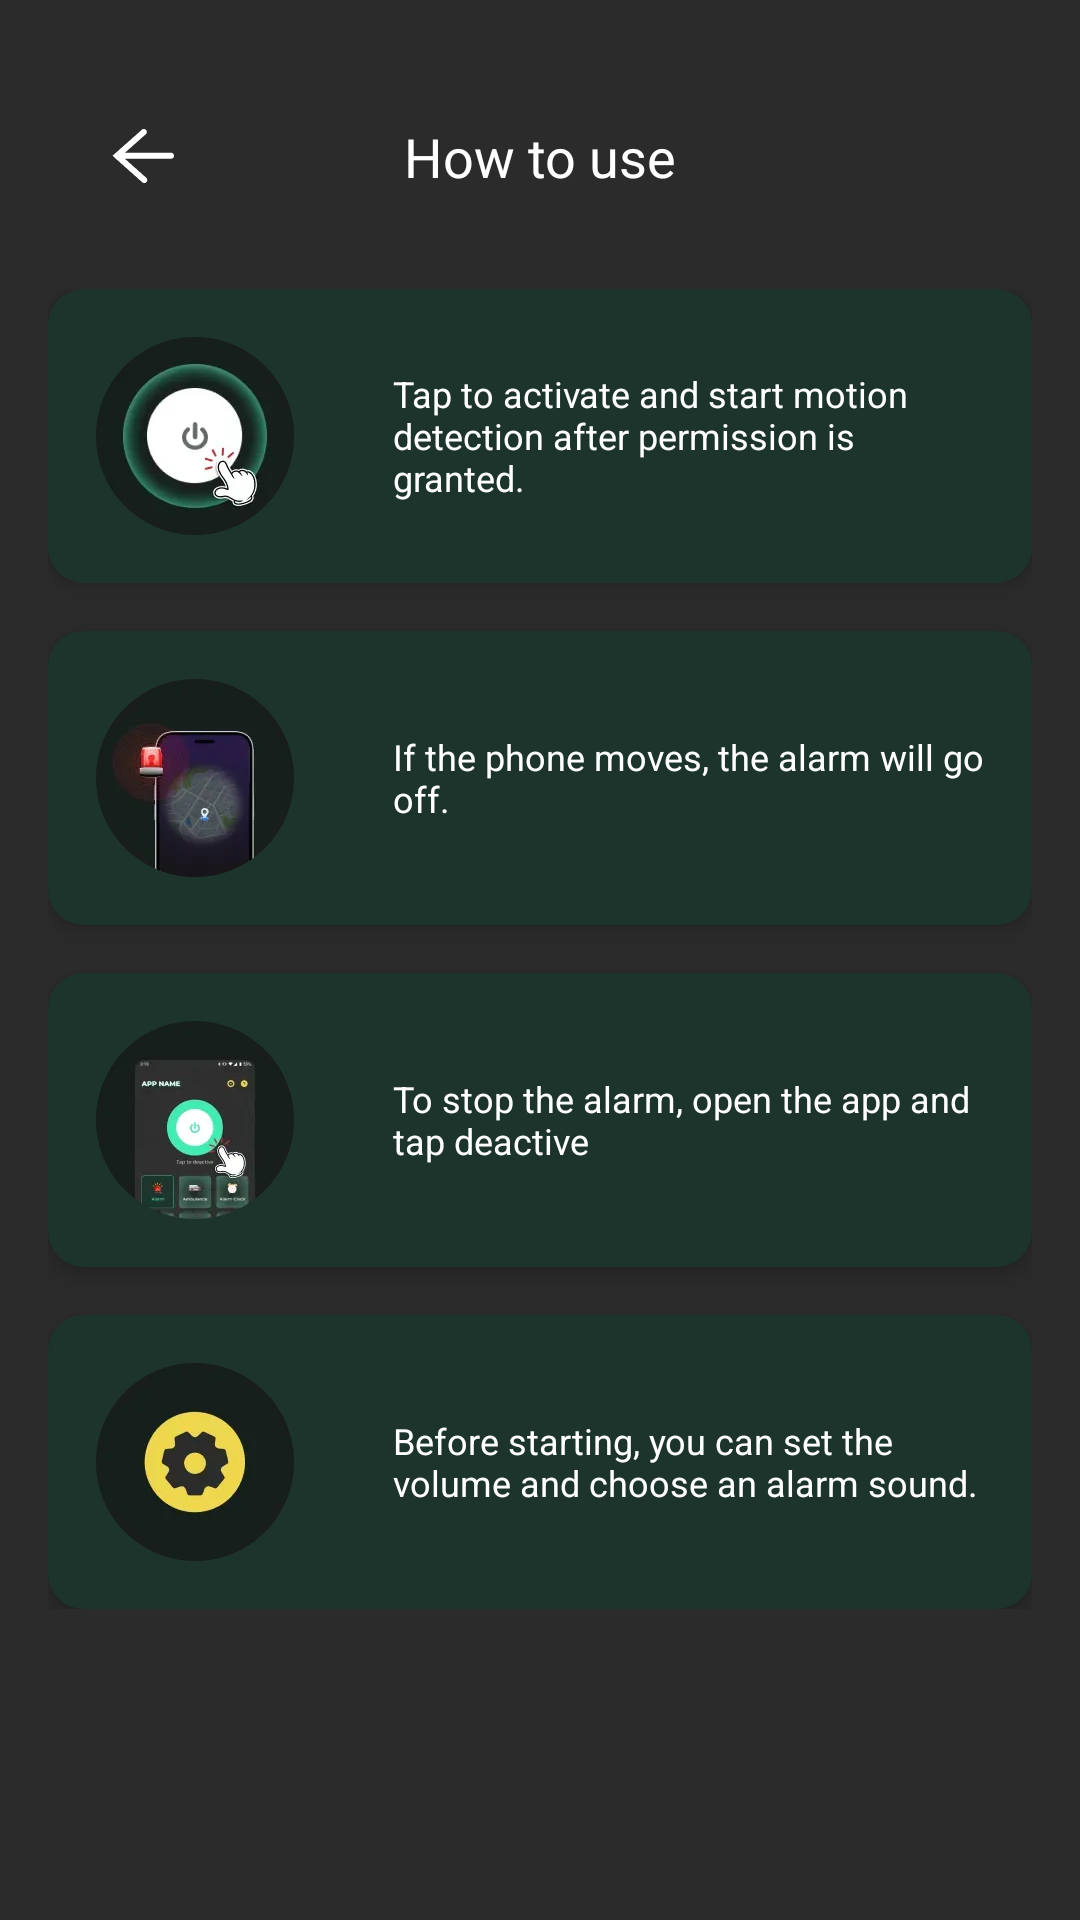

Icon bounding boxes for this 1080x1920 phone screenshot, format [left=x1, top=y1, right=x2, bottom=y2]:
back: [left=112, top=129, right=174, bottom=183]
